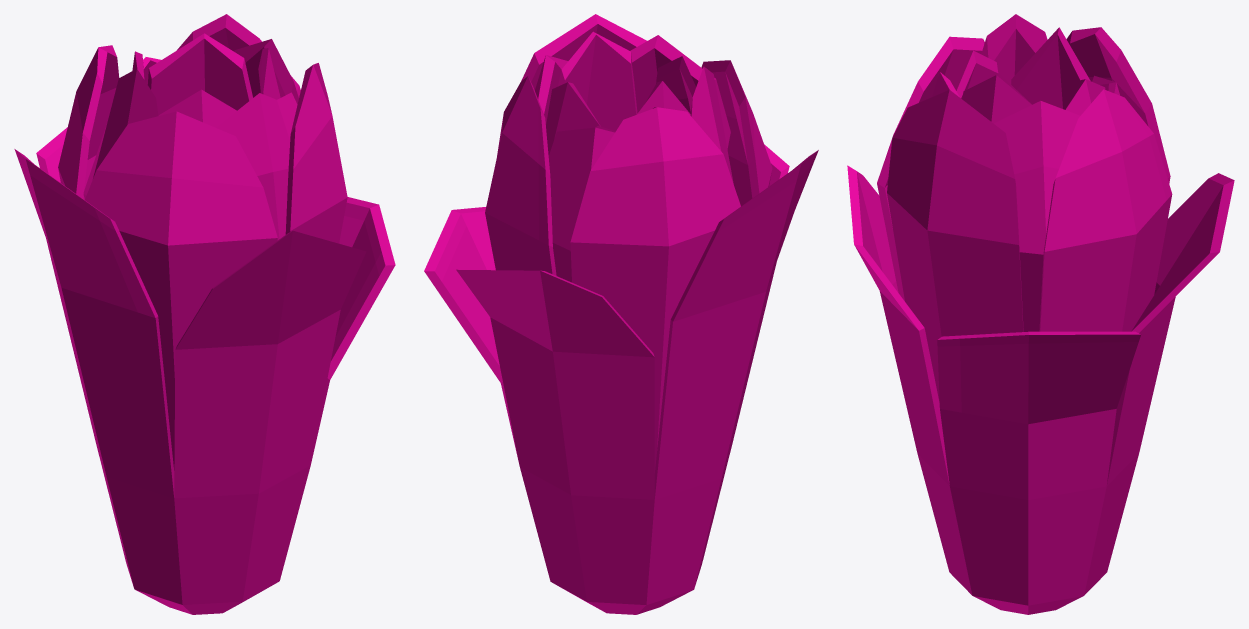
The model's file is Lettuce_01.fbx.
3 views of the same model, side by side, from view 1: azimuth 30°, elevation 25°; view 2: azimuth 150°, elevation 25°; view 3: azimuth 270°, elevation 25° (orthographic).
Parts seen in each view (by area): view 1: Lettuce_01; view 2: Lettuce_01; view 3: Lettuce_01.
Boxes of the visible parts, x1=… form: Lettuce_01: x1=14, y1=14, x2=395, y2=614; Lettuce_01: x1=424, y1=14, x2=818, y2=614; Lettuce_01: x1=847, y1=14, x2=1234, y2=614.
Size of the model in its own units: 4.82 by 7.25 by 4.59.
